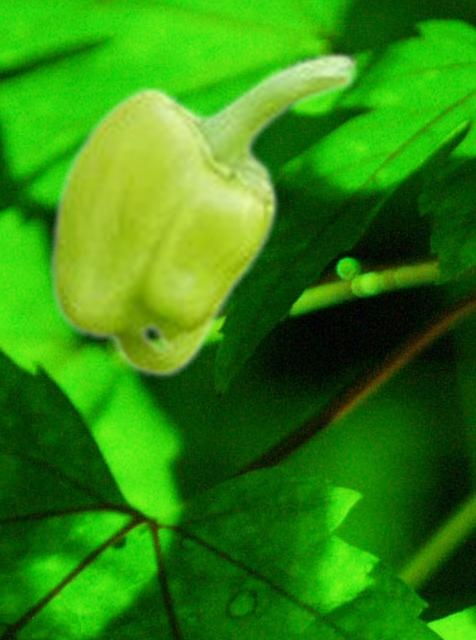bell_pepper: (47, 50, 359, 378)
